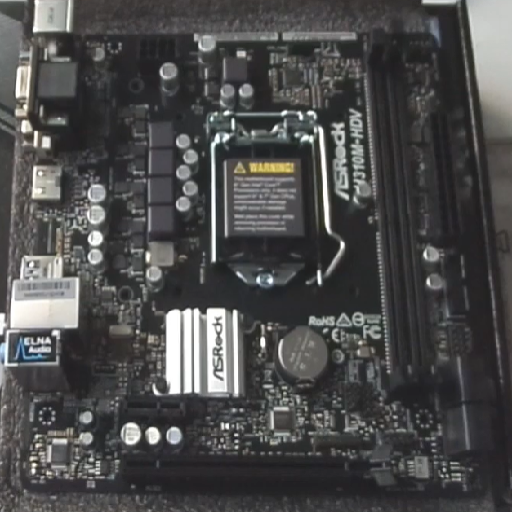CPU: (205, 109, 332, 288)
GPU: (114, 444, 400, 489)
MOTHERBOARD: (6, 3, 512, 509)
RAM: (361, 29, 445, 388)
